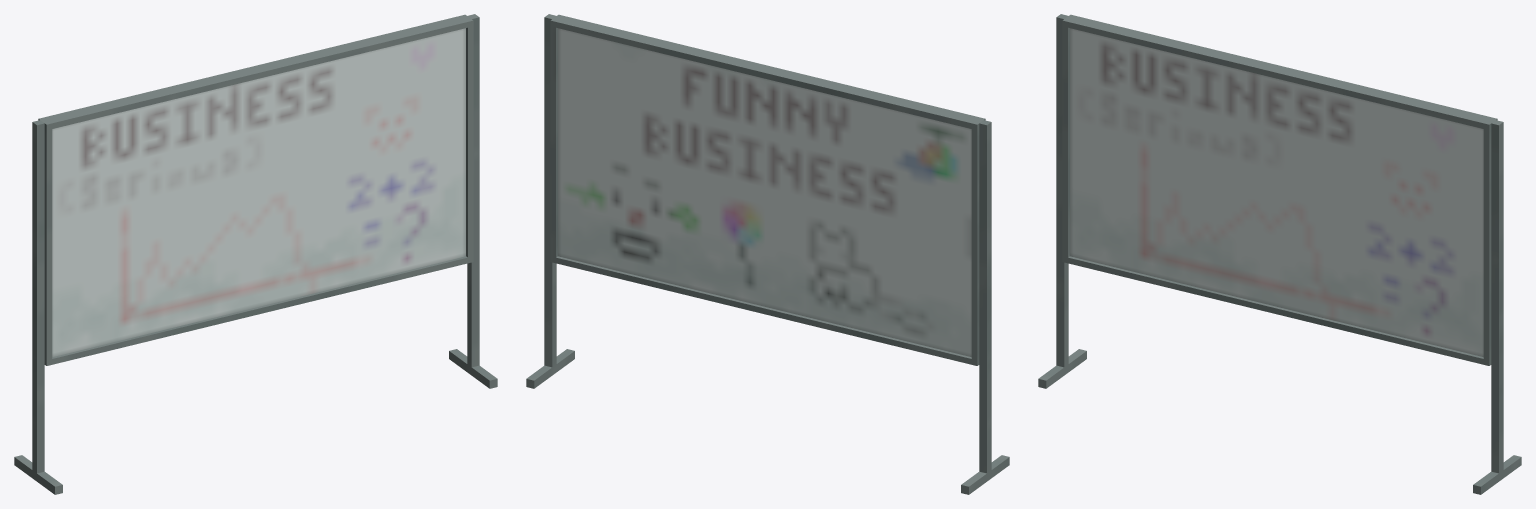
File: Whiteboard.fbx
The picture shows the model from 3 angles, left to right: view 1: azimuth 30°, elevation 25°; view 2: azimuth 150°, elevation 25°; view 3: azimuth 330°, elevation 25°; orthographic projection.
Visible parts, largest first — view 1: mesh; view 2: mesh; view 3: mesh.
Boxes of the visible parts, box(x1,y1,x2,y2) form: mesh: box(14, 14, 497, 494); mesh: box(526, 14, 1009, 494); mesh: box(1038, 14, 1521, 494).
Size of the model in its own units: 353 by 271 by 56.25.
Materials: 1 (1 with a texture image).
